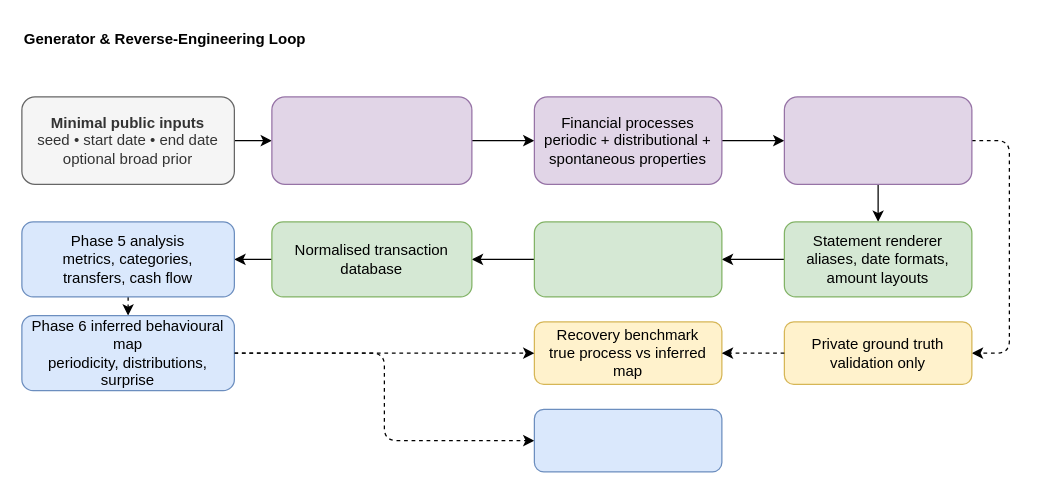
Image size: 1041x494. Some labels were removed from this diagram. The centre of each missing label's shape, as x and y in pixels:
"Canonical synthetic financial reality accounts, paired events and balances" goes at point 877,140.
"Hidden continuous profile income stability, savings, volatility, weekend bias…" goes at point 371,140.
"Observable bank statements" goes at point 627,259.
"Phase 7+ forecast profile user scenarios, budgets and goals" goes at point 627,440.
